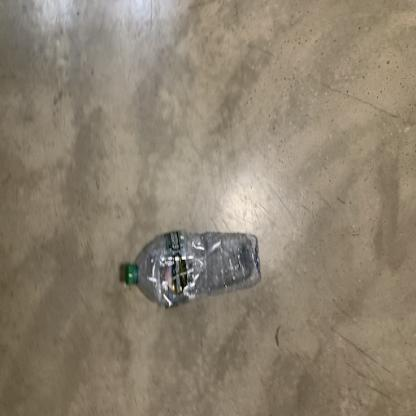trash: (124, 230, 264, 310)
